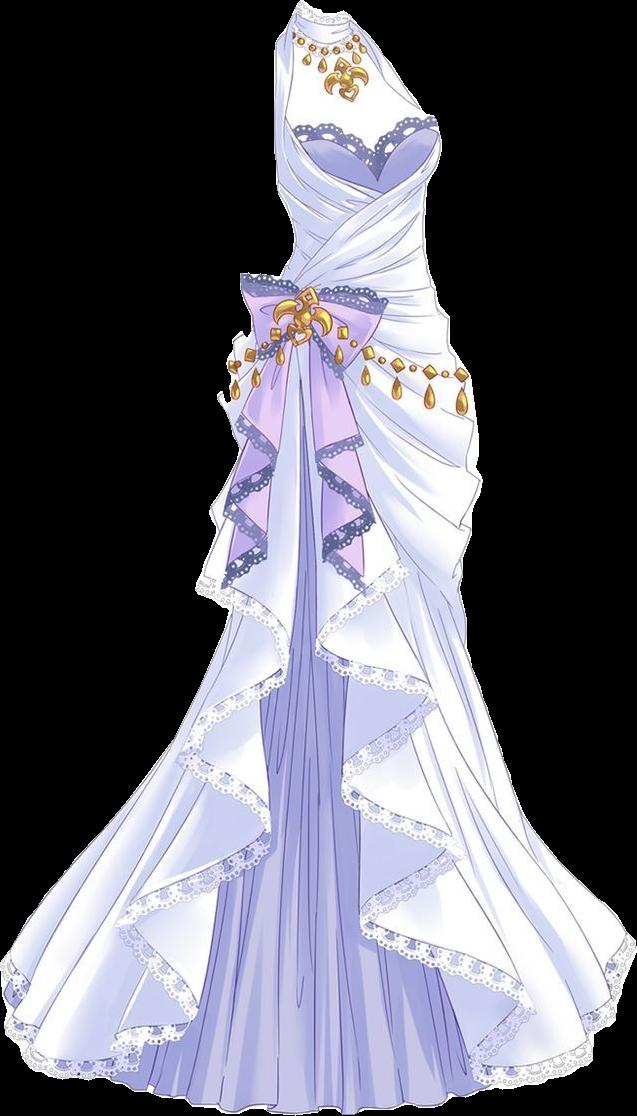Bodice: (274, 0, 441, 291)
Hemline: (299, 296, 636, 1096), (0, 298, 311, 1088), (0, 953, 635, 1115)
Neckline: (286, 26, 432, 176), (295, 0, 352, 27)
Skirt: (0, 271, 636, 1113)
